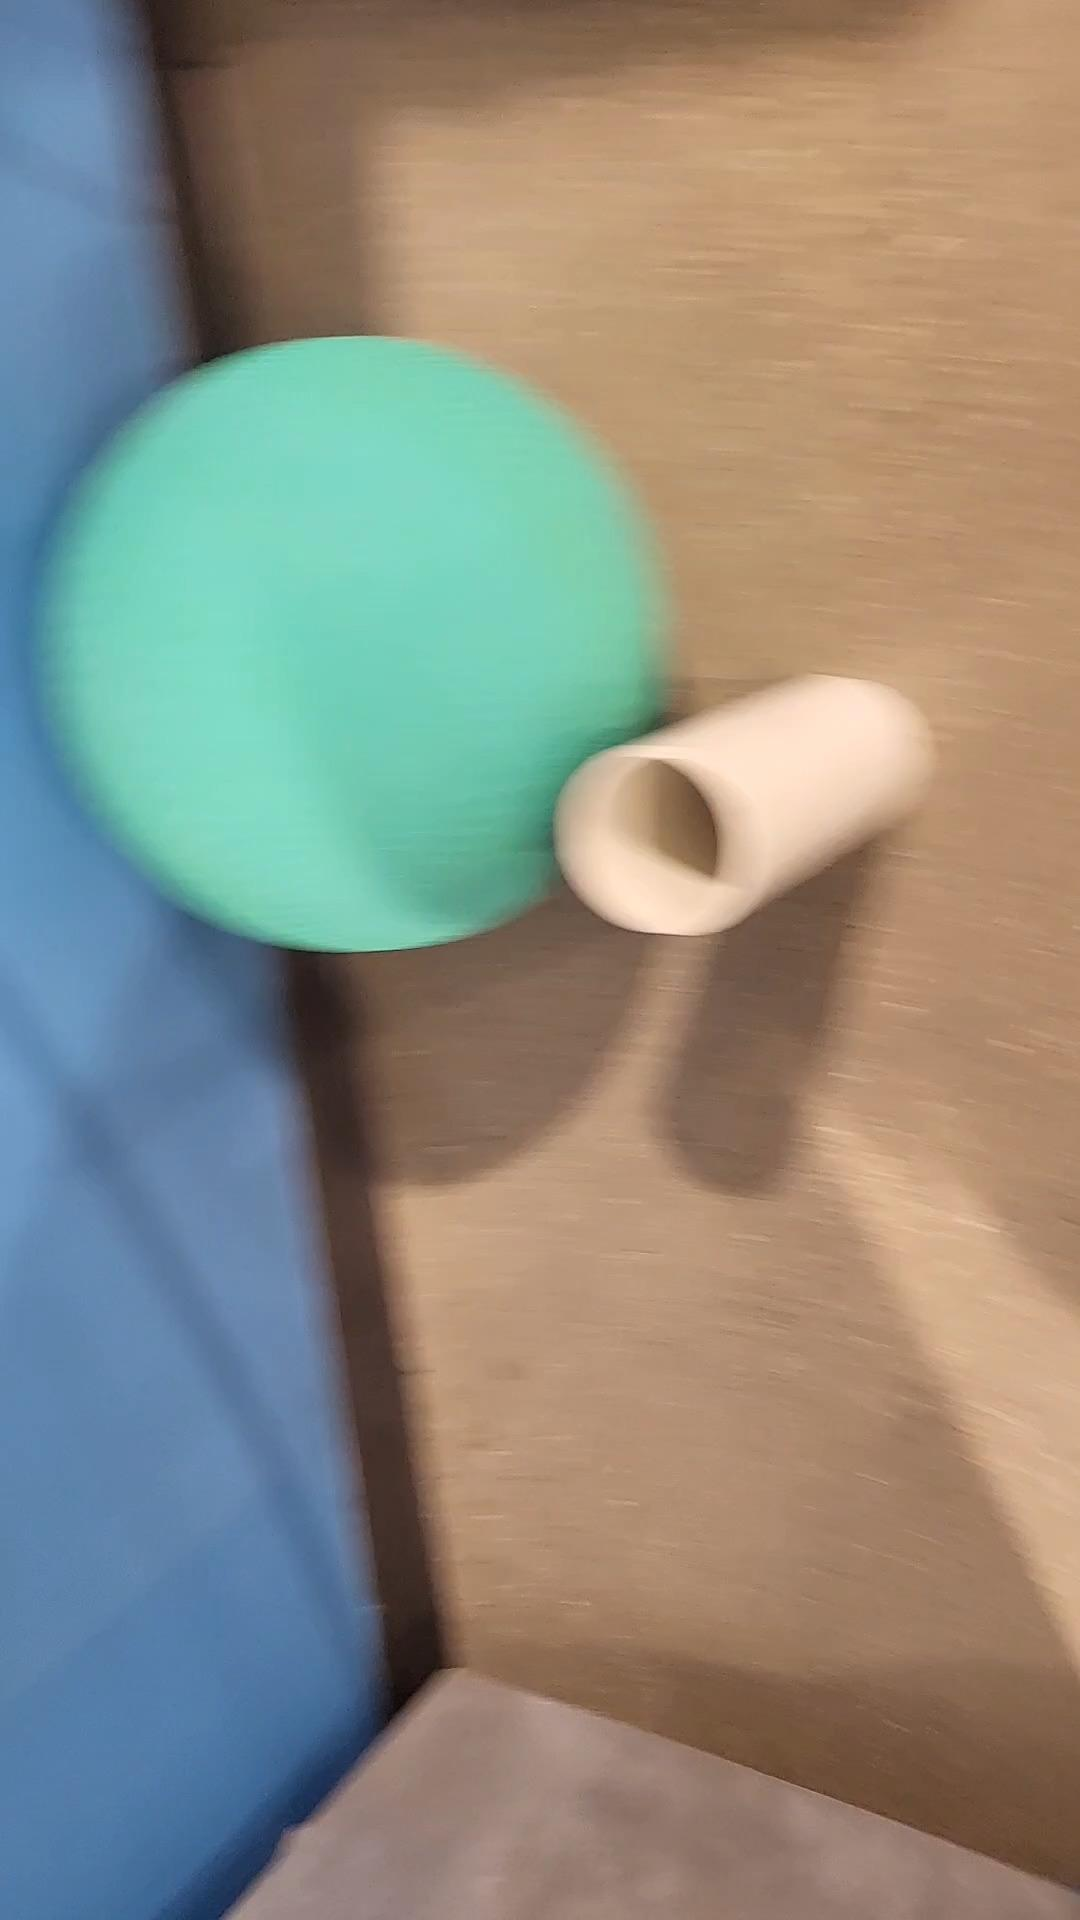algae: (55, 340, 658, 955)
coral: (563, 675, 938, 927)
